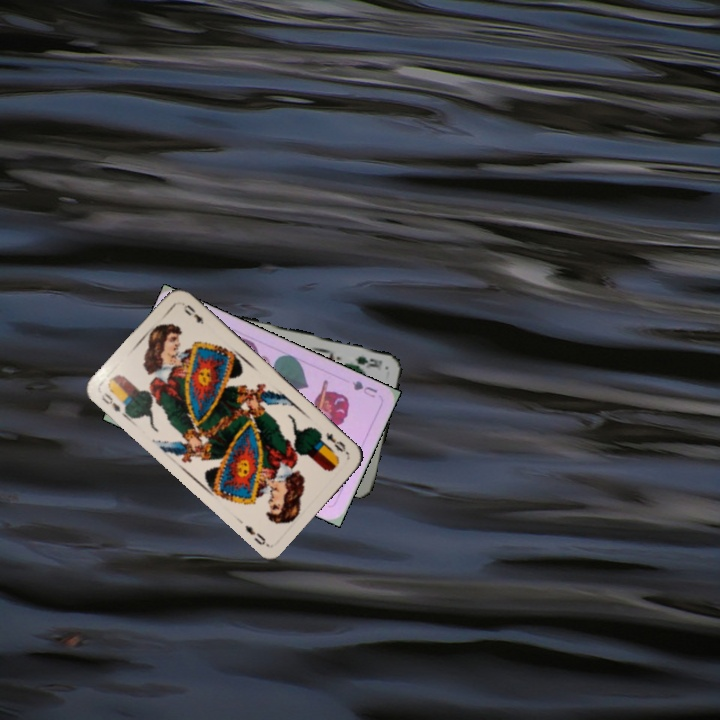EO: (97, 389, 130, 420), (322, 428, 351, 457)
GK: (346, 352, 385, 371)
GU: (348, 376, 380, 400)
